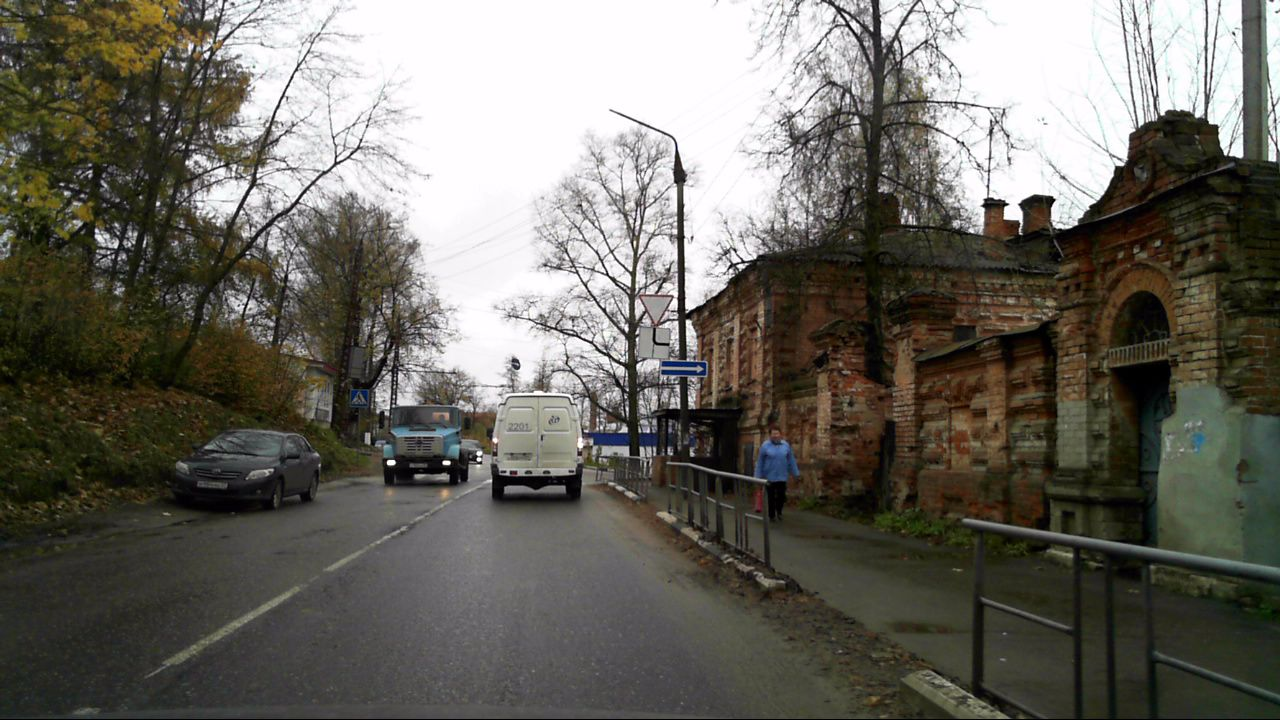One-Way Traffic: (661, 360, 707, 376)
